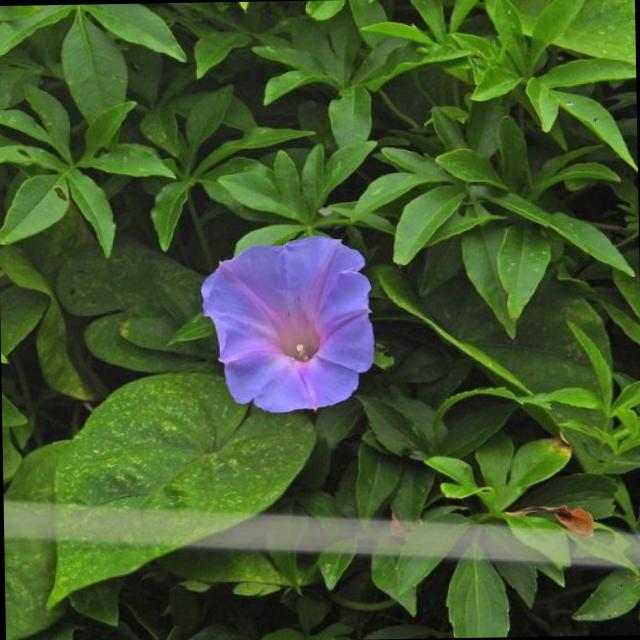ipomoea: (197, 232, 380, 418)
